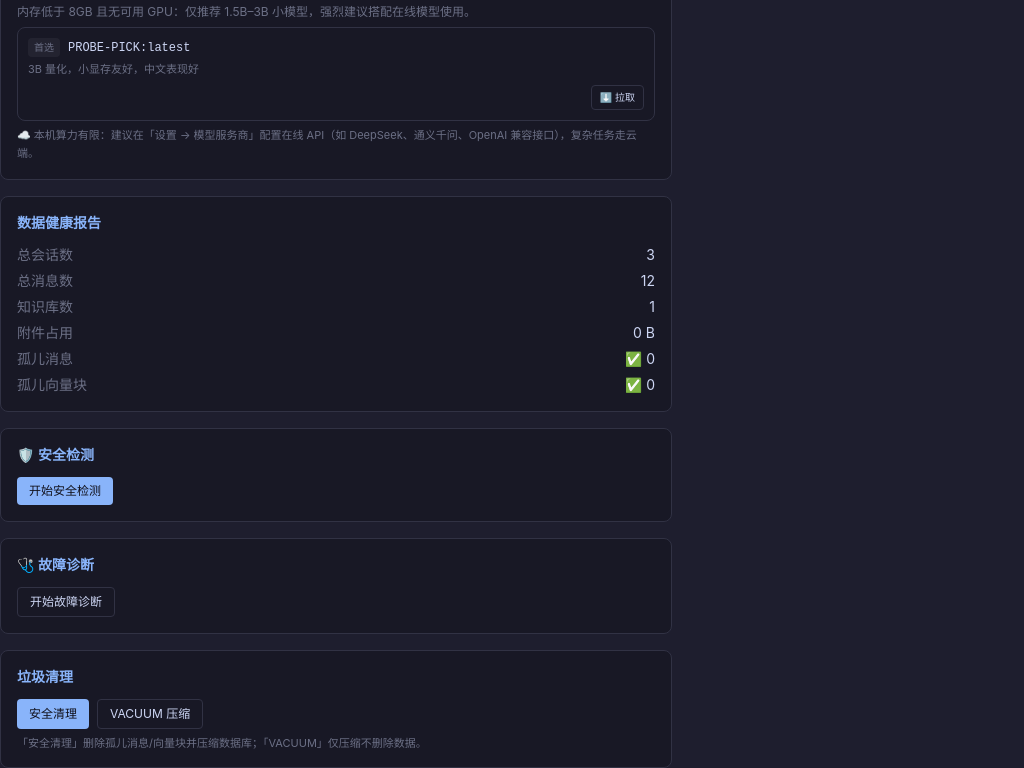
Test: ② 两颗用户按下的键：失败得当场说一句 › 点「开始安全检测」而通道回 {ok:false} ⇒ toast 里是那条原因，不是"点了没反应"
(page scrolled)
Expected: the text "PROBE-PICK:latest" is shown, [68,40,190,56]
What coordinates should you click on to do the following:
click the button "开始安全检测"
I would click on:
 (65, 491)
Its box is [17,477,113,505].
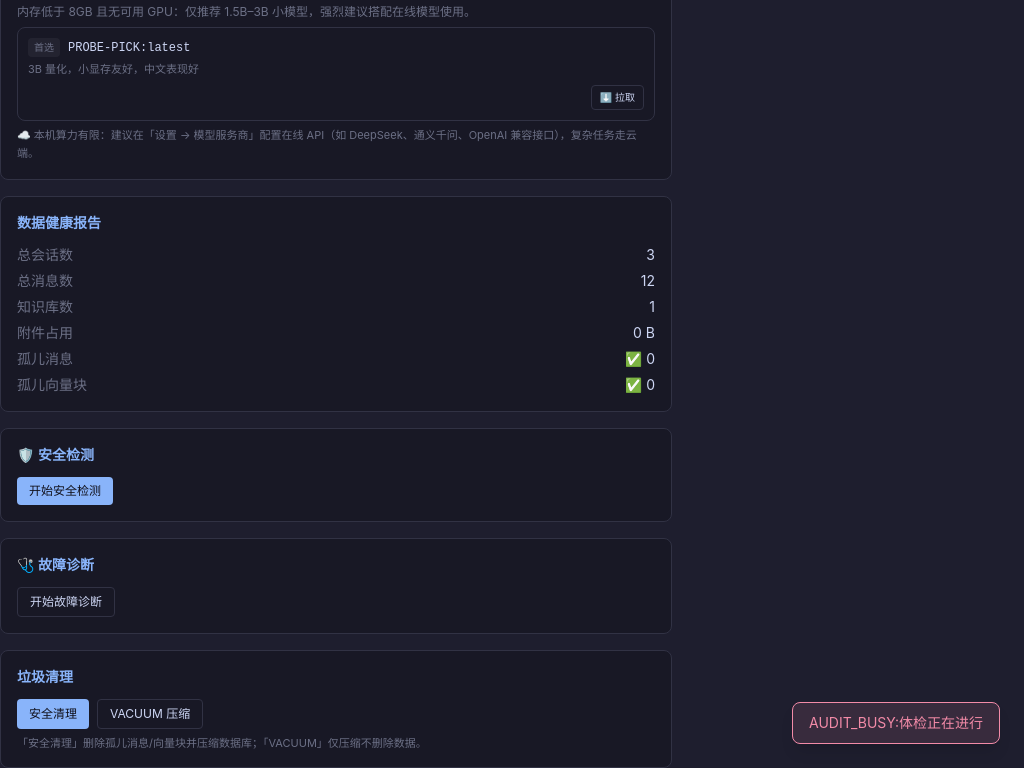
Expected: the message reads "AUDIT_BUSY:体检正在进行", [809,714,983,731]
